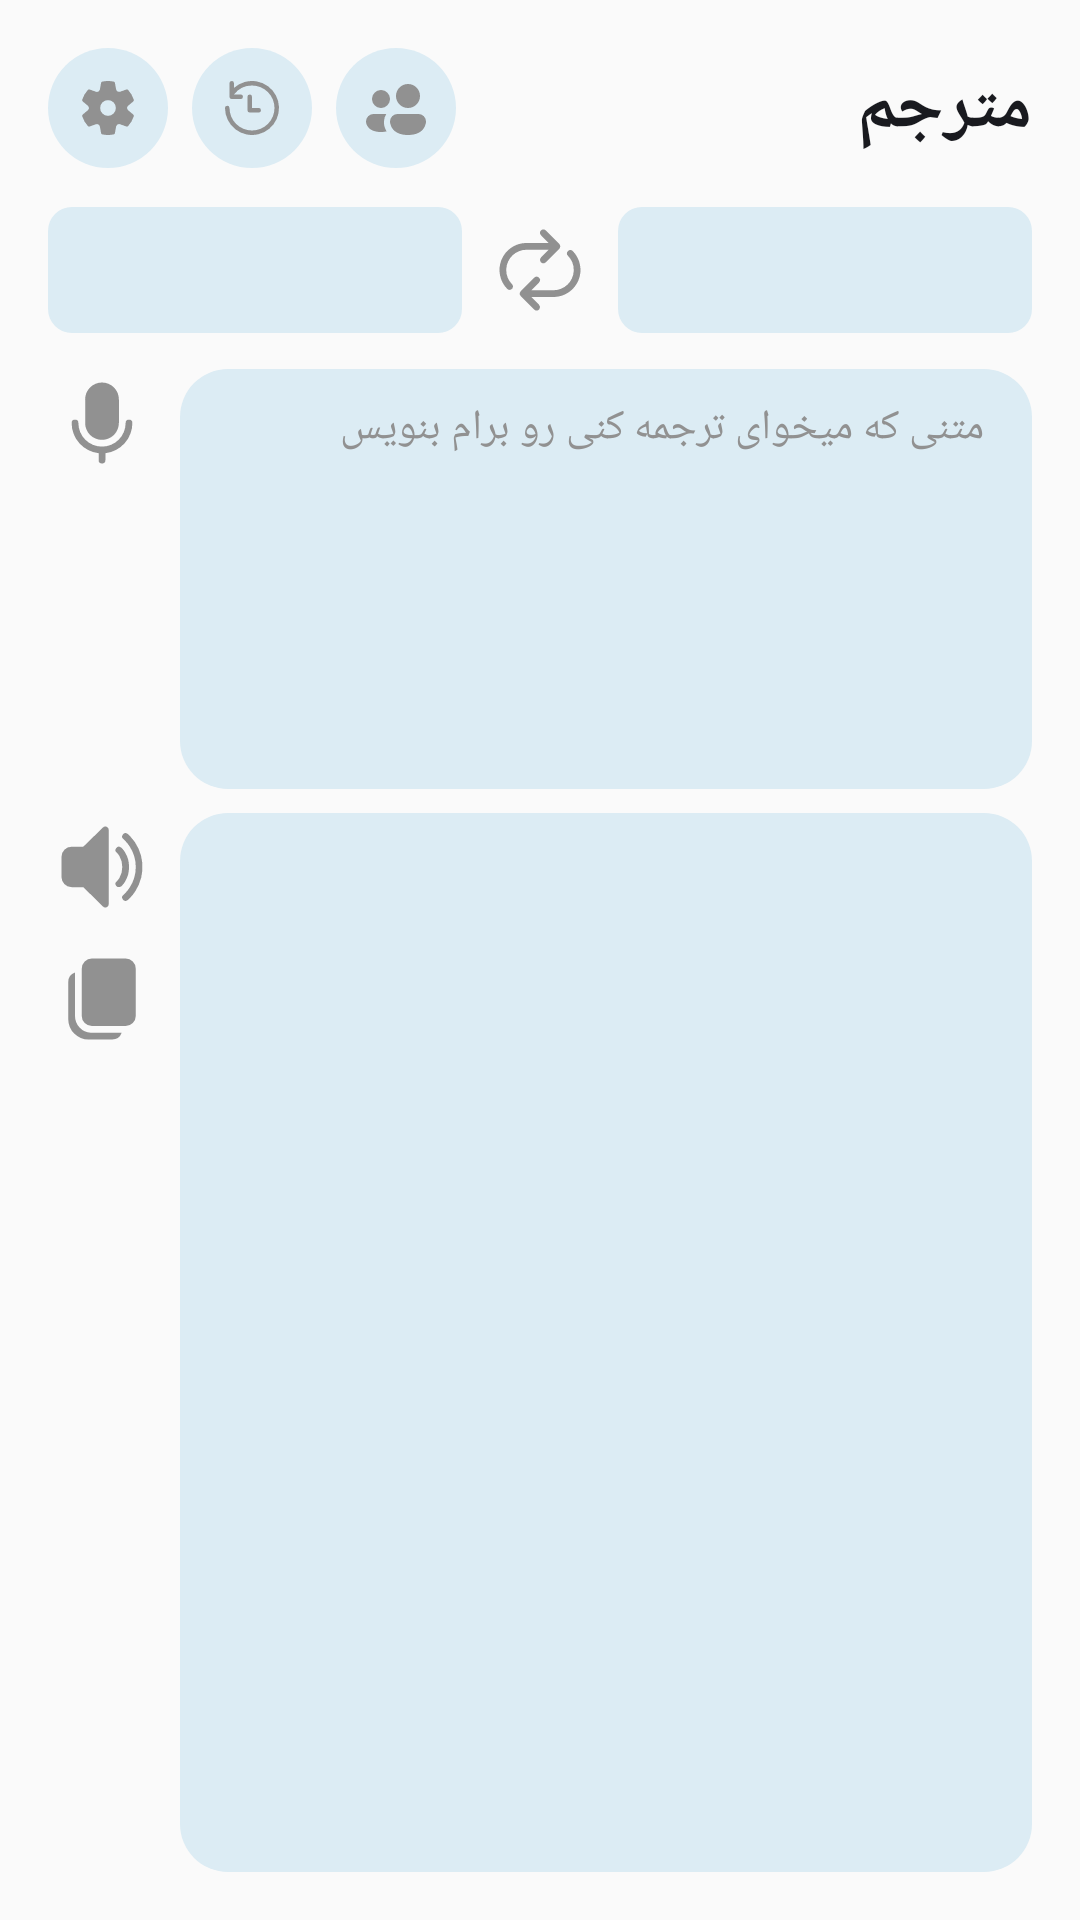

Point at icon controls on the screen. Image size 1080px x 1920px, points as (x,y).
conversation: (396,108)
history: (252,108)
mic nobg: (102,423)
reverse nobg: (540,270)
speaker nobg: (102,867)
